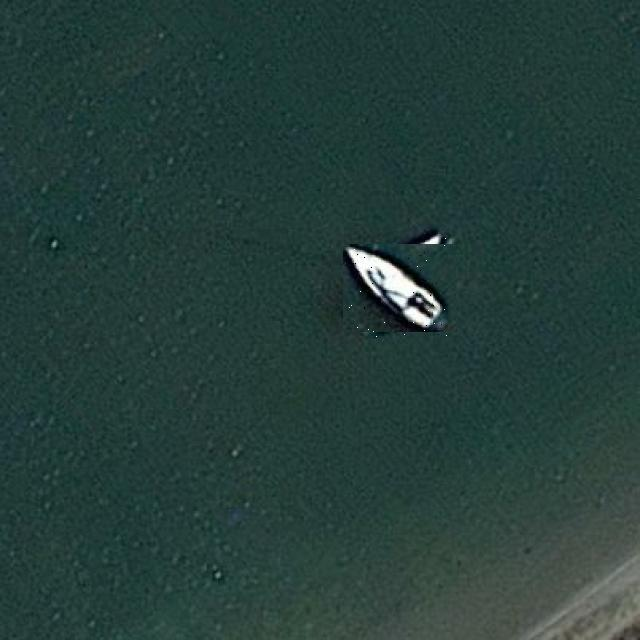boat: (349, 237, 450, 338)
